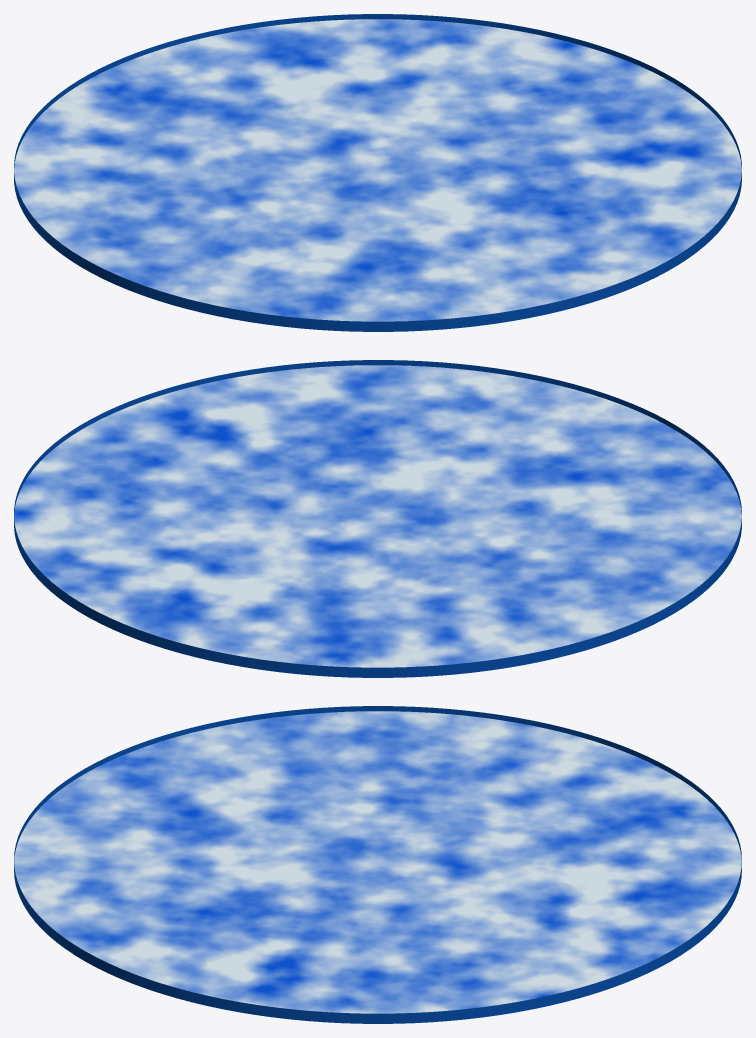
File: power_lake_r8.obj
3 renders of one model, top to bottom at view 1: azimuth 30°, elevation 25°; view 2: azimuth 150°, elevation 25°; view 3: azimuth 270°, elevation 25°, orthographic.
Visible parts, largest first — view 1: cloud_r8; view 2: cloud_r8; view 3: cloud_r8.
Part boxes in pixels (<box>): cloud_r8: <box>14,14,741,331</box>; cloud_r8: <box>14,360,741,677</box>; cloud_r8: <box>14,706,741,1023</box>.
Size of the model in its own units: 16 by 0.25 by 16.
